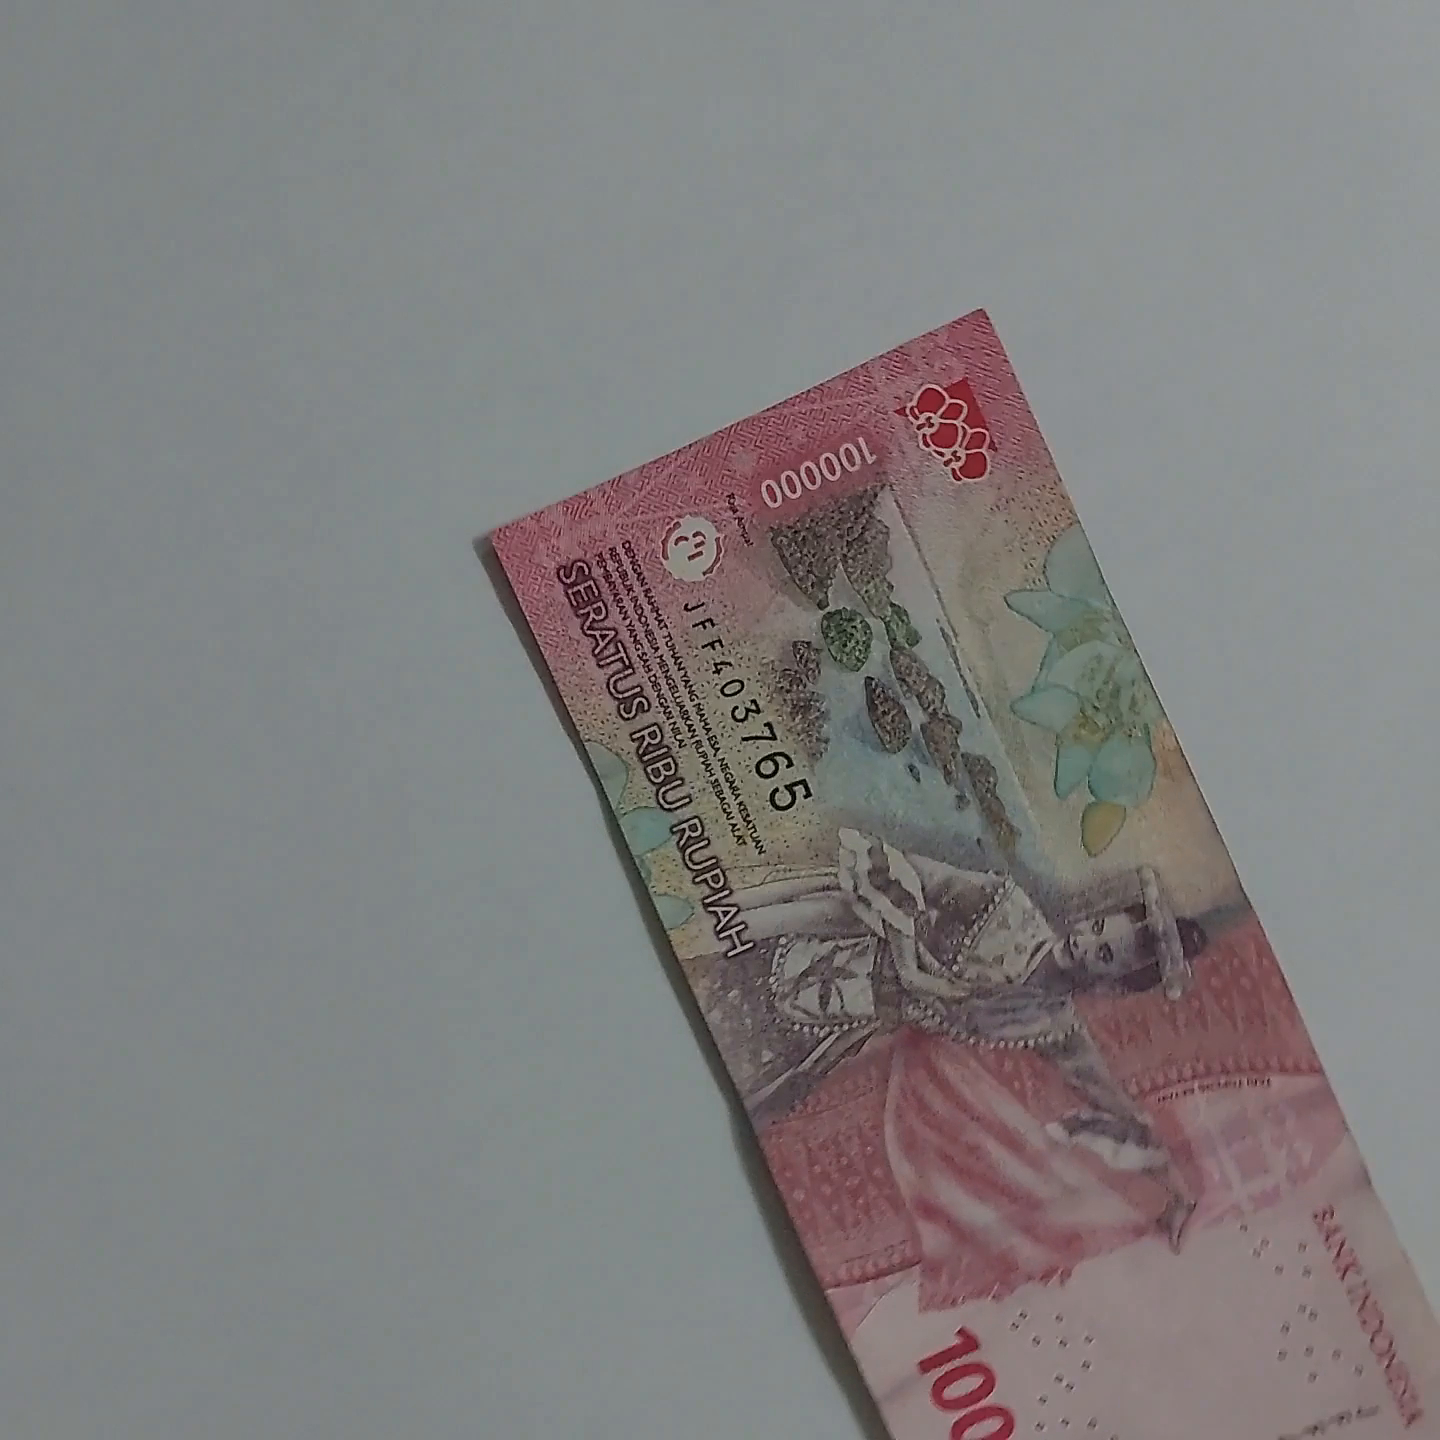100k: (463, 225, 1440, 1440)
